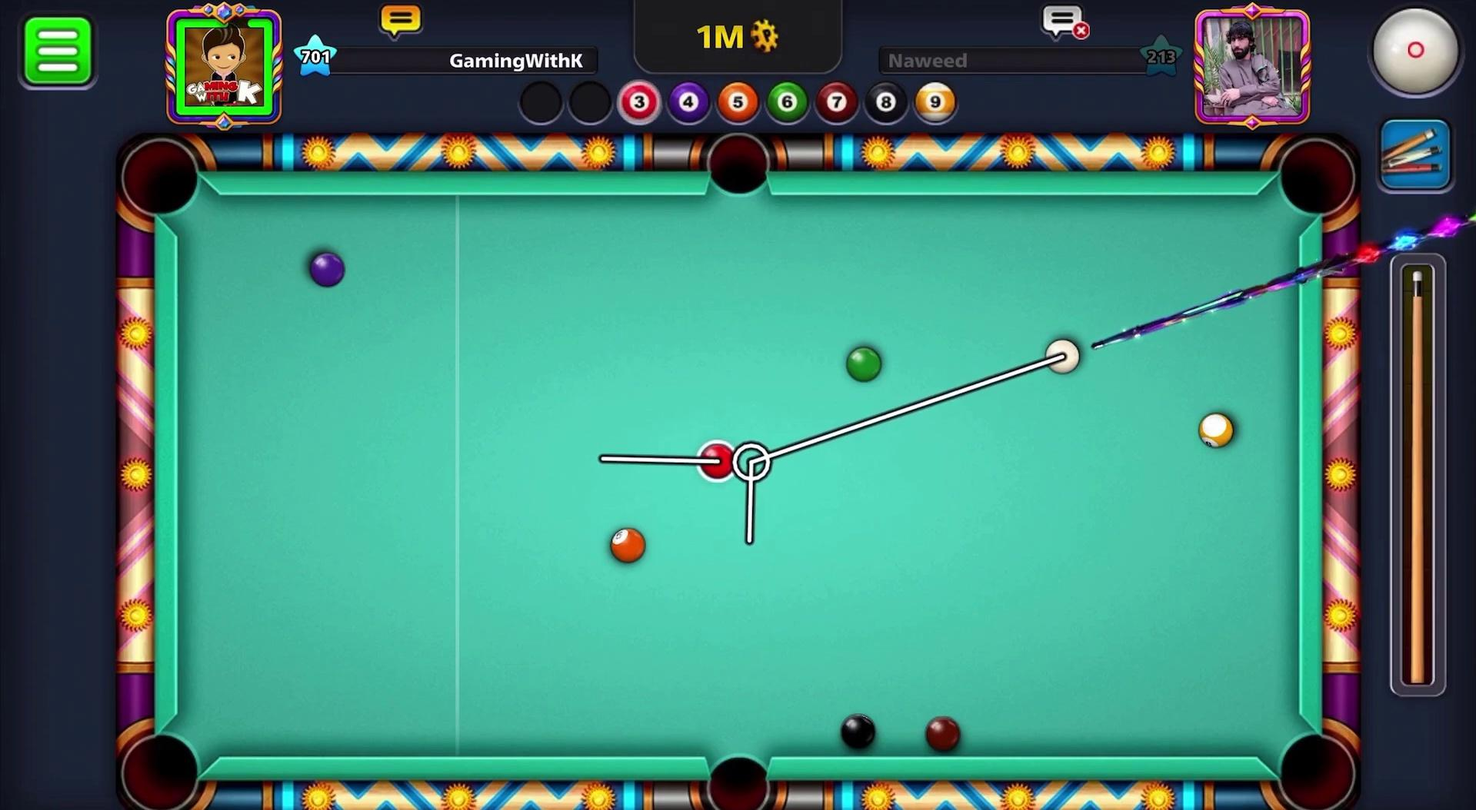Ball: (598, 521, 655, 569), (838, 340, 888, 387), (1191, 407, 1241, 454), (830, 709, 878, 755), (303, 248, 350, 293), (921, 712, 968, 754), (696, 440, 740, 482)
Force: (1384, 248, 1454, 699)
Guideline: (598, 340, 1080, 543)
Hole: (110, 125, 220, 235), (1267, 127, 1365, 226), (1263, 716, 1365, 809), (112, 724, 208, 809), (684, 739, 786, 809), (700, 123, 779, 201)
Play_Area: (175, 193, 1296, 756)
Spin: (1348, 0, 1475, 112)
White: (1041, 330, 1088, 380)
